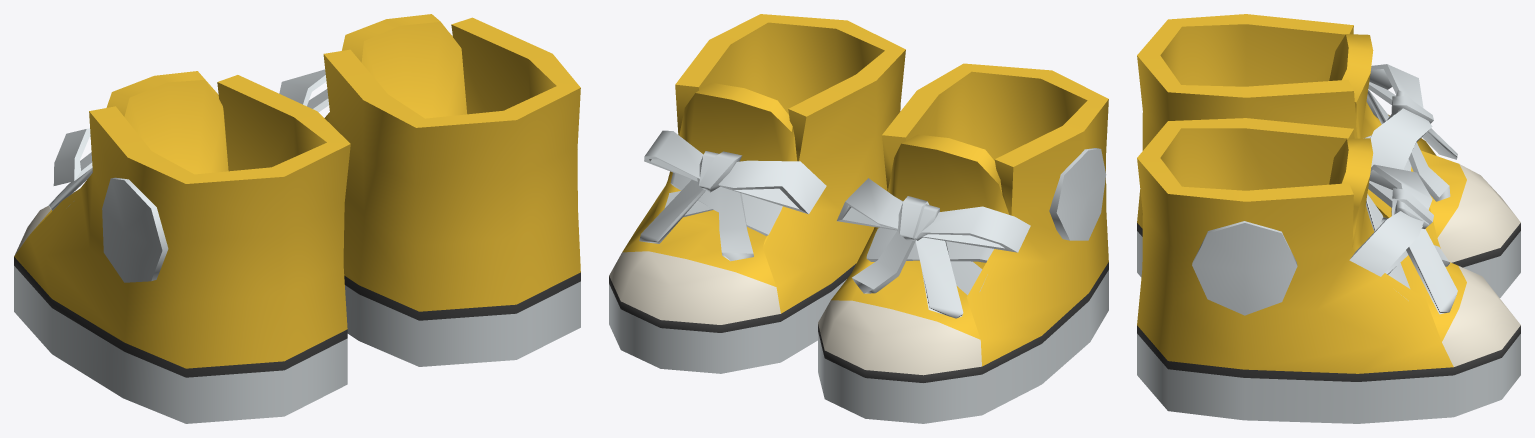
The model's file is Shoes_1.fbx.
3 views of the same model, side by side, from view 1: azimuth 30°, elevation 25°; view 2: azimuth 150°, elevation 25°; view 3: azimuth 270°, elevation 25° (orthographic). The views are drawn at different scales.
Parts seen in each view (by area): view 1: Shoes_1; view 2: Shoes_1; view 3: Shoes_1.
Boxes of the visible parts, x1,y1,x2,y2 form: Shoes_1: [14, 14, 580, 423]; Shoes_1: [609, 14, 1108, 423]; Shoes_1: [1137, 14, 1520, 423].
Bounding box in the file's own units: 39.4 × 20.66 × 31.94.
